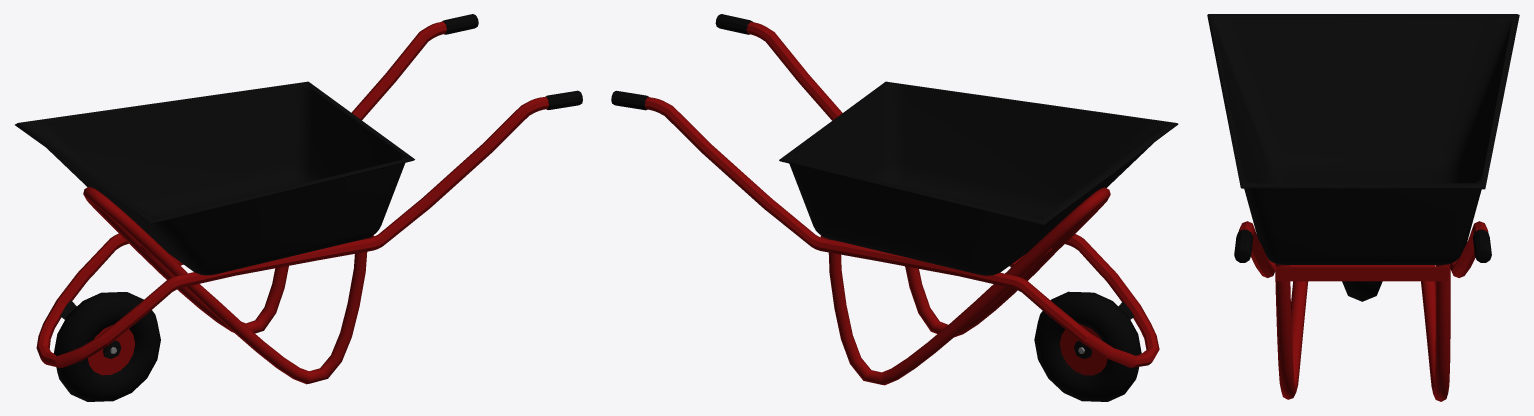
Rendered from Wheelbarrow.fbx.
3 views of the same model, side by side, from view 1: azimuth 30°, elevation 25°; view 2: azimuth 150°, elevation 25°; view 3: azimuth 270°, elevation 25° (orthographic). The views are drawn at different scales.
Parts seen in each view (by area): view 1: Box001, skeleton1, skeleton2, Torus001, Cylinder001, HandleCover1, HandleCover002; view 2: Box001, skeleton1, skeleton2, Torus001, Cylinder001, HandleCover002, HandleCover1; view 3: Box001, skeleton2, connection1, skeleton1, Torus001, HandleCover1, HandleCover002.
Part boxes in pixels (x1,y1,x2,y2): Box001: [15, 81, 414, 275]; skeleton1: [36, 21, 548, 367]; skeleton2: [83, 187, 368, 384]; Torus001: [53, 292, 160, 401]; Cylinder001: [88, 325, 134, 375]; HandleCover1: [545, 90, 582, 109]; HandleCover002: [441, 14, 478, 34]; Box001: [779, 81, 1178, 275]; skeleton1: [645, 22, 1159, 367]; skeleton2: [828, 187, 1110, 385]; Torus001: [1034, 291, 1141, 401]; Cylinder001: [1060, 324, 1107, 375]; HandleCover002: [611, 90, 649, 110]; HandleCover1: [715, 14, 753, 34]; Box001: [1207, 14, 1519, 264]; skeleton2: [1275, 263, 1450, 401]; connection1: [1276, 265, 1448, 281]; skeleton1: [1238, 221, 1488, 277]; Torus001: [1342, 281, 1382, 301]; HandleCover1: [1234, 229, 1253, 262]; HandleCover002: [1472, 229, 1491, 262].
Bounding box in the file's own units: 57.21 × 27.96 × 27.77.
